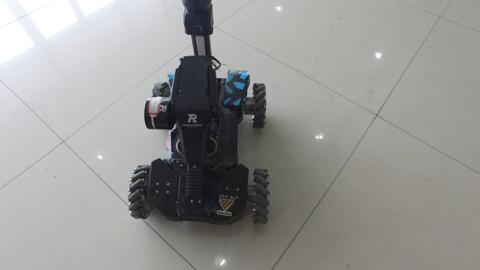chariot: (114, 11, 292, 234)
